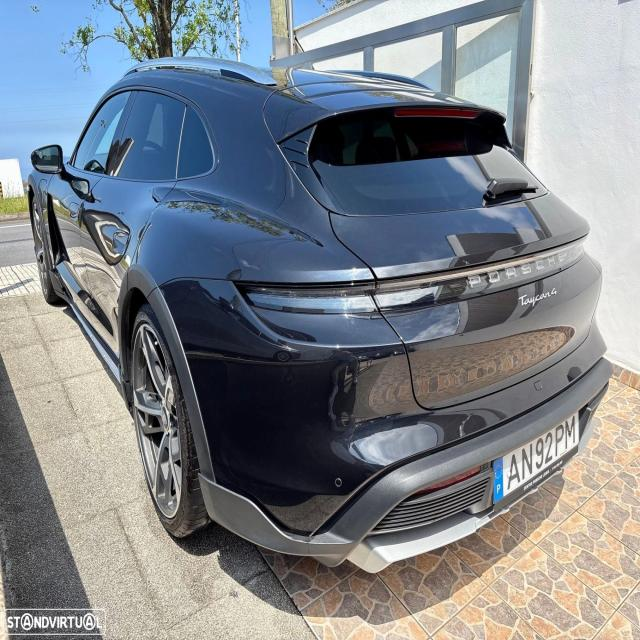portuguese-license-plates: (494, 411, 579, 512)
